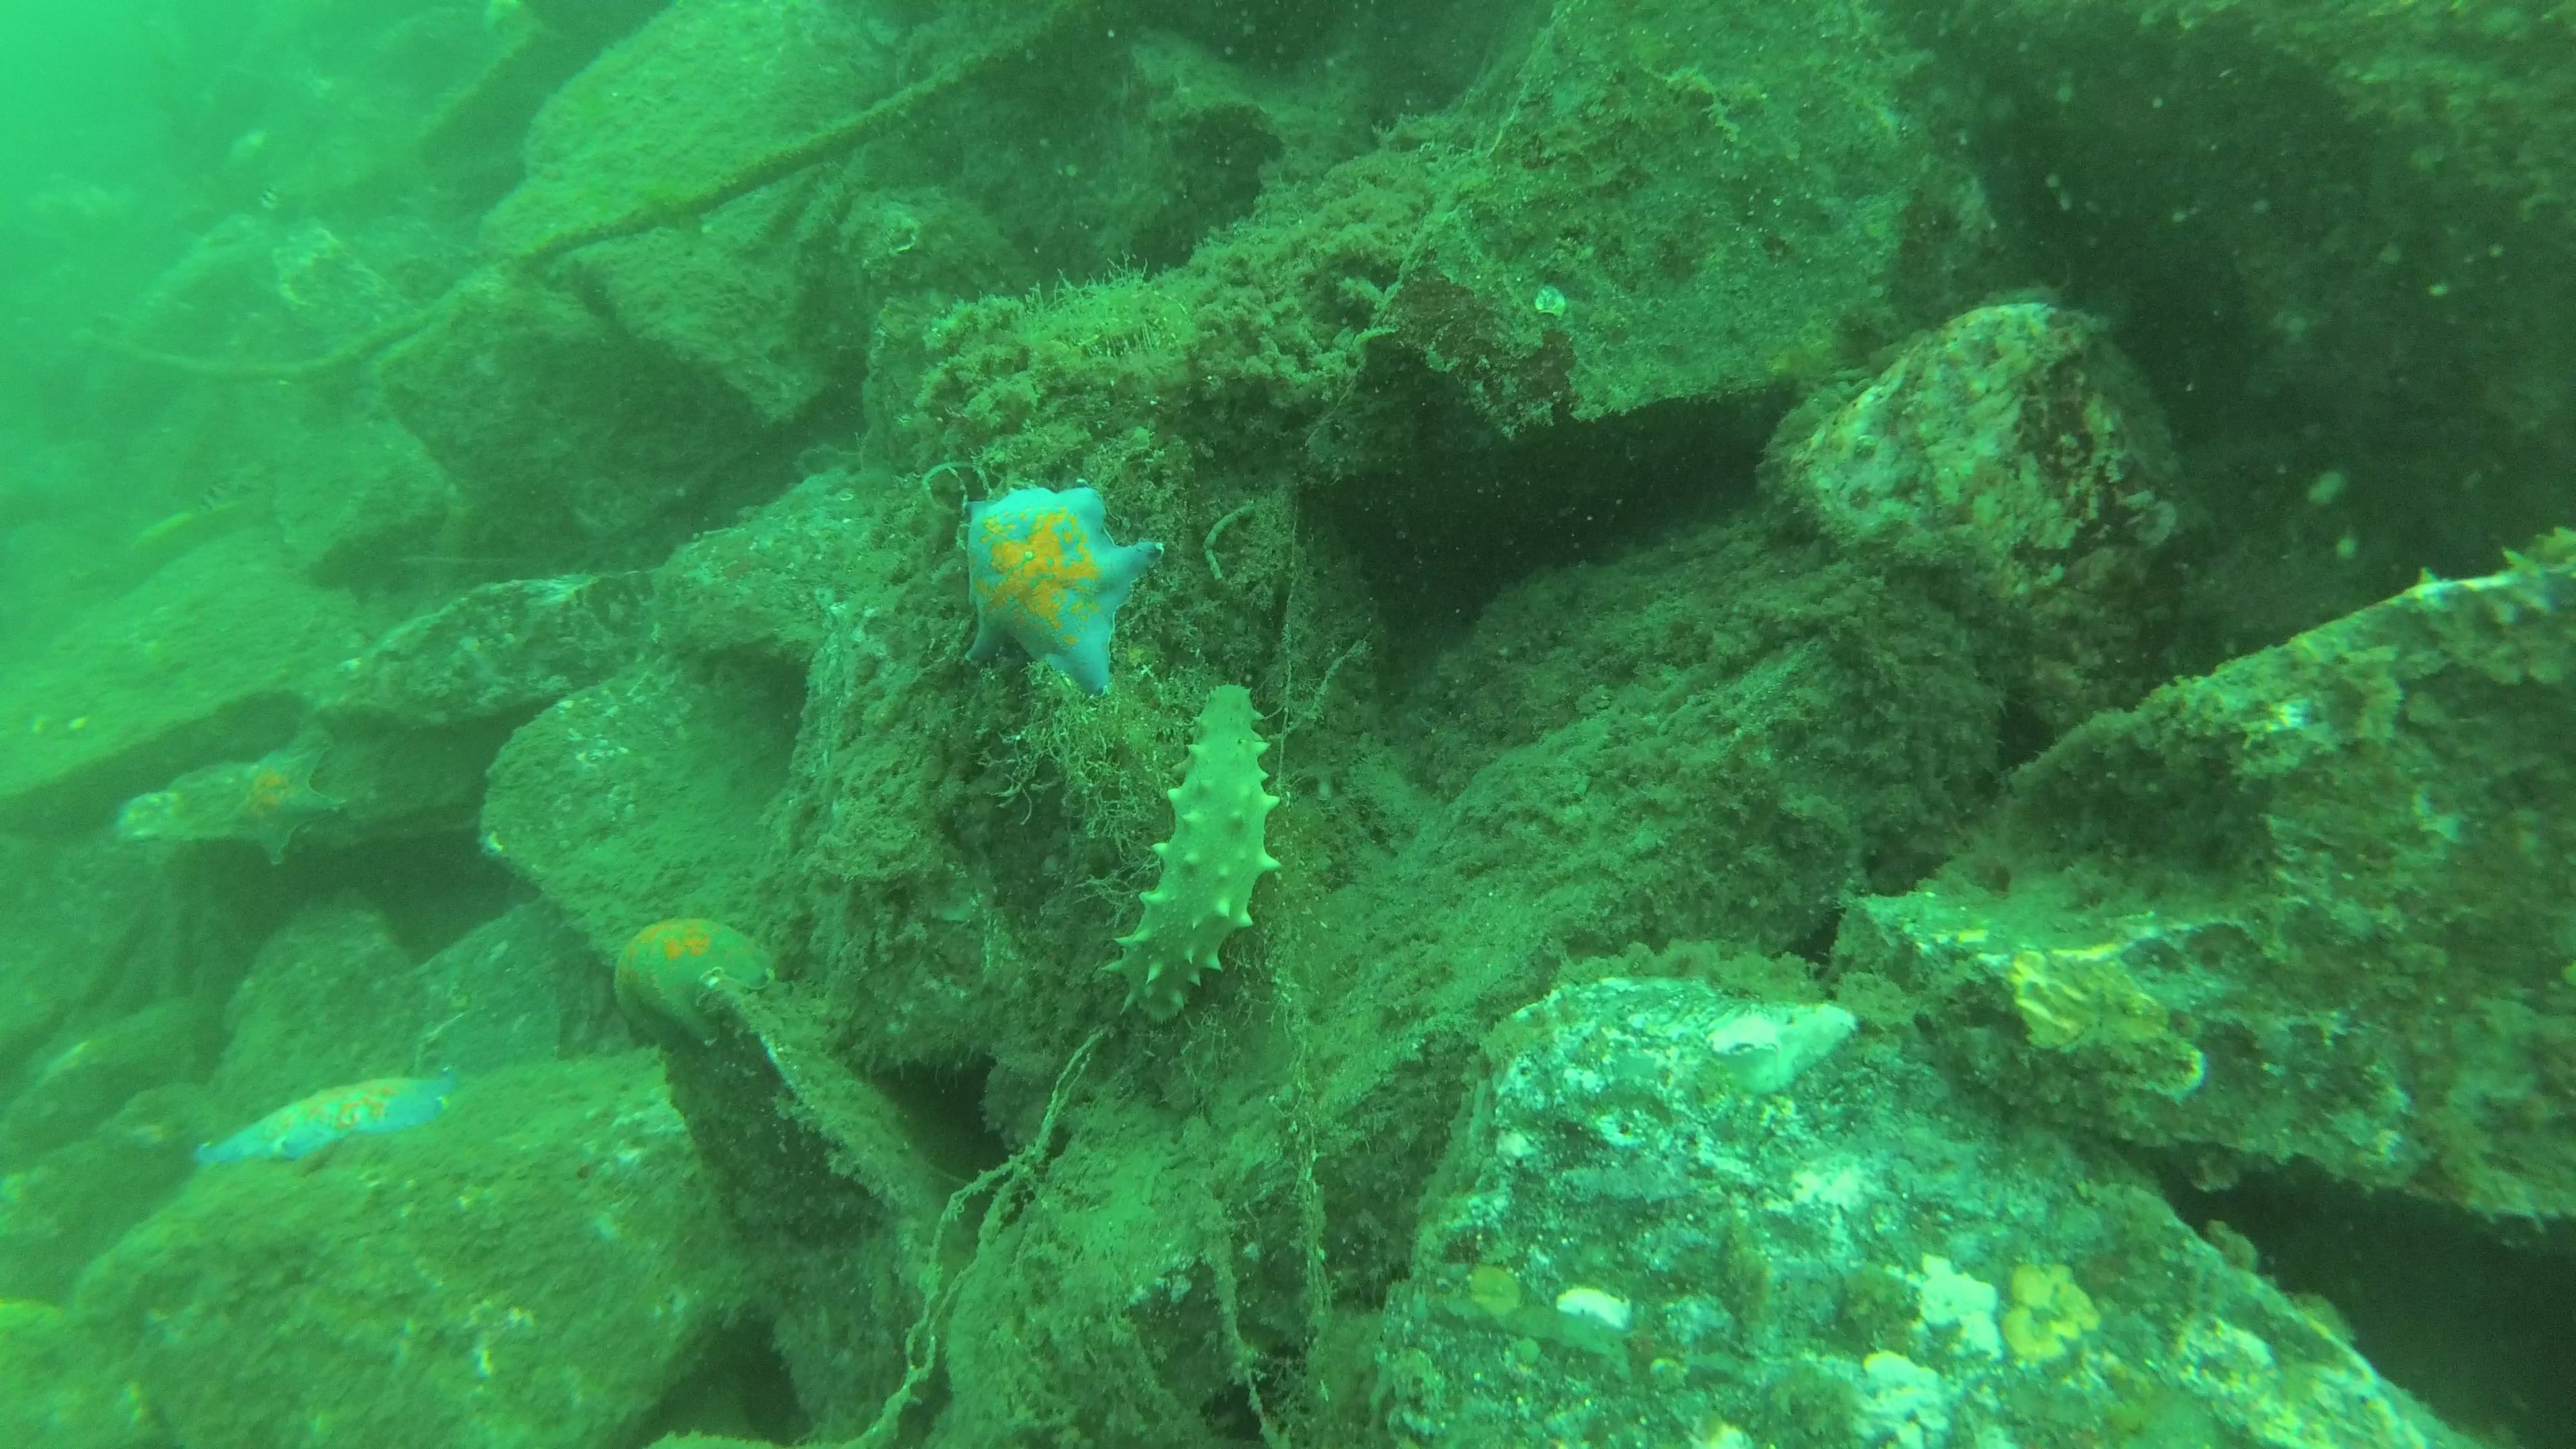holothurian: (1102, 681, 1277, 1030)
starfish: (961, 481, 1164, 699), (189, 1065, 467, 1182), (612, 918, 787, 1049), (214, 741, 347, 867)
